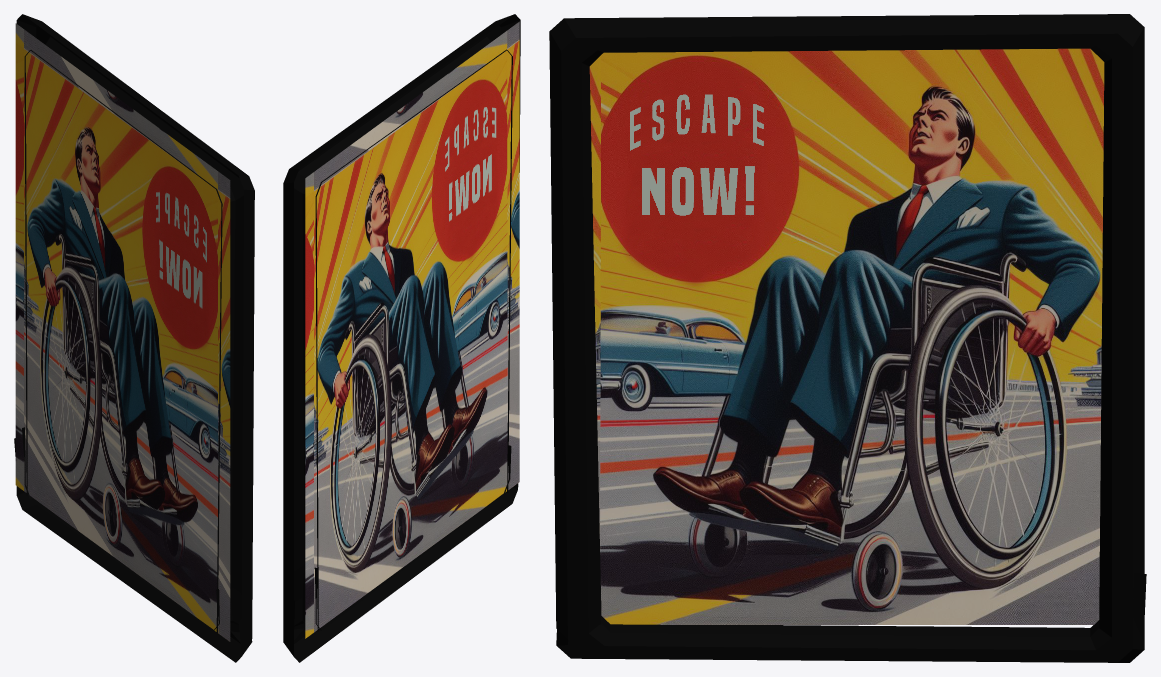
Rendered from Poster.fbx.
3 views of the same model, side by side, from view 1: azimuth 30°, elevation 25°; view 2: azimuth 150°, elevation 25°; view 3: azimuth 270°, elevation 25° (orthographic). The views are drawn at different scales.
Parts seen in each view (by area): view 1: Poster; view 2: Poster; view 3: Poster.
Part boxes in pixels (x1,y1,x2,y2): Poster: [14, 14, 254, 662]; Poster: [283, 14, 520, 662]; Poster: [549, 14, 1146, 662].
Size of the model in its own units: 10.24 by 197 by 165.
2 materials, 1 textured.
